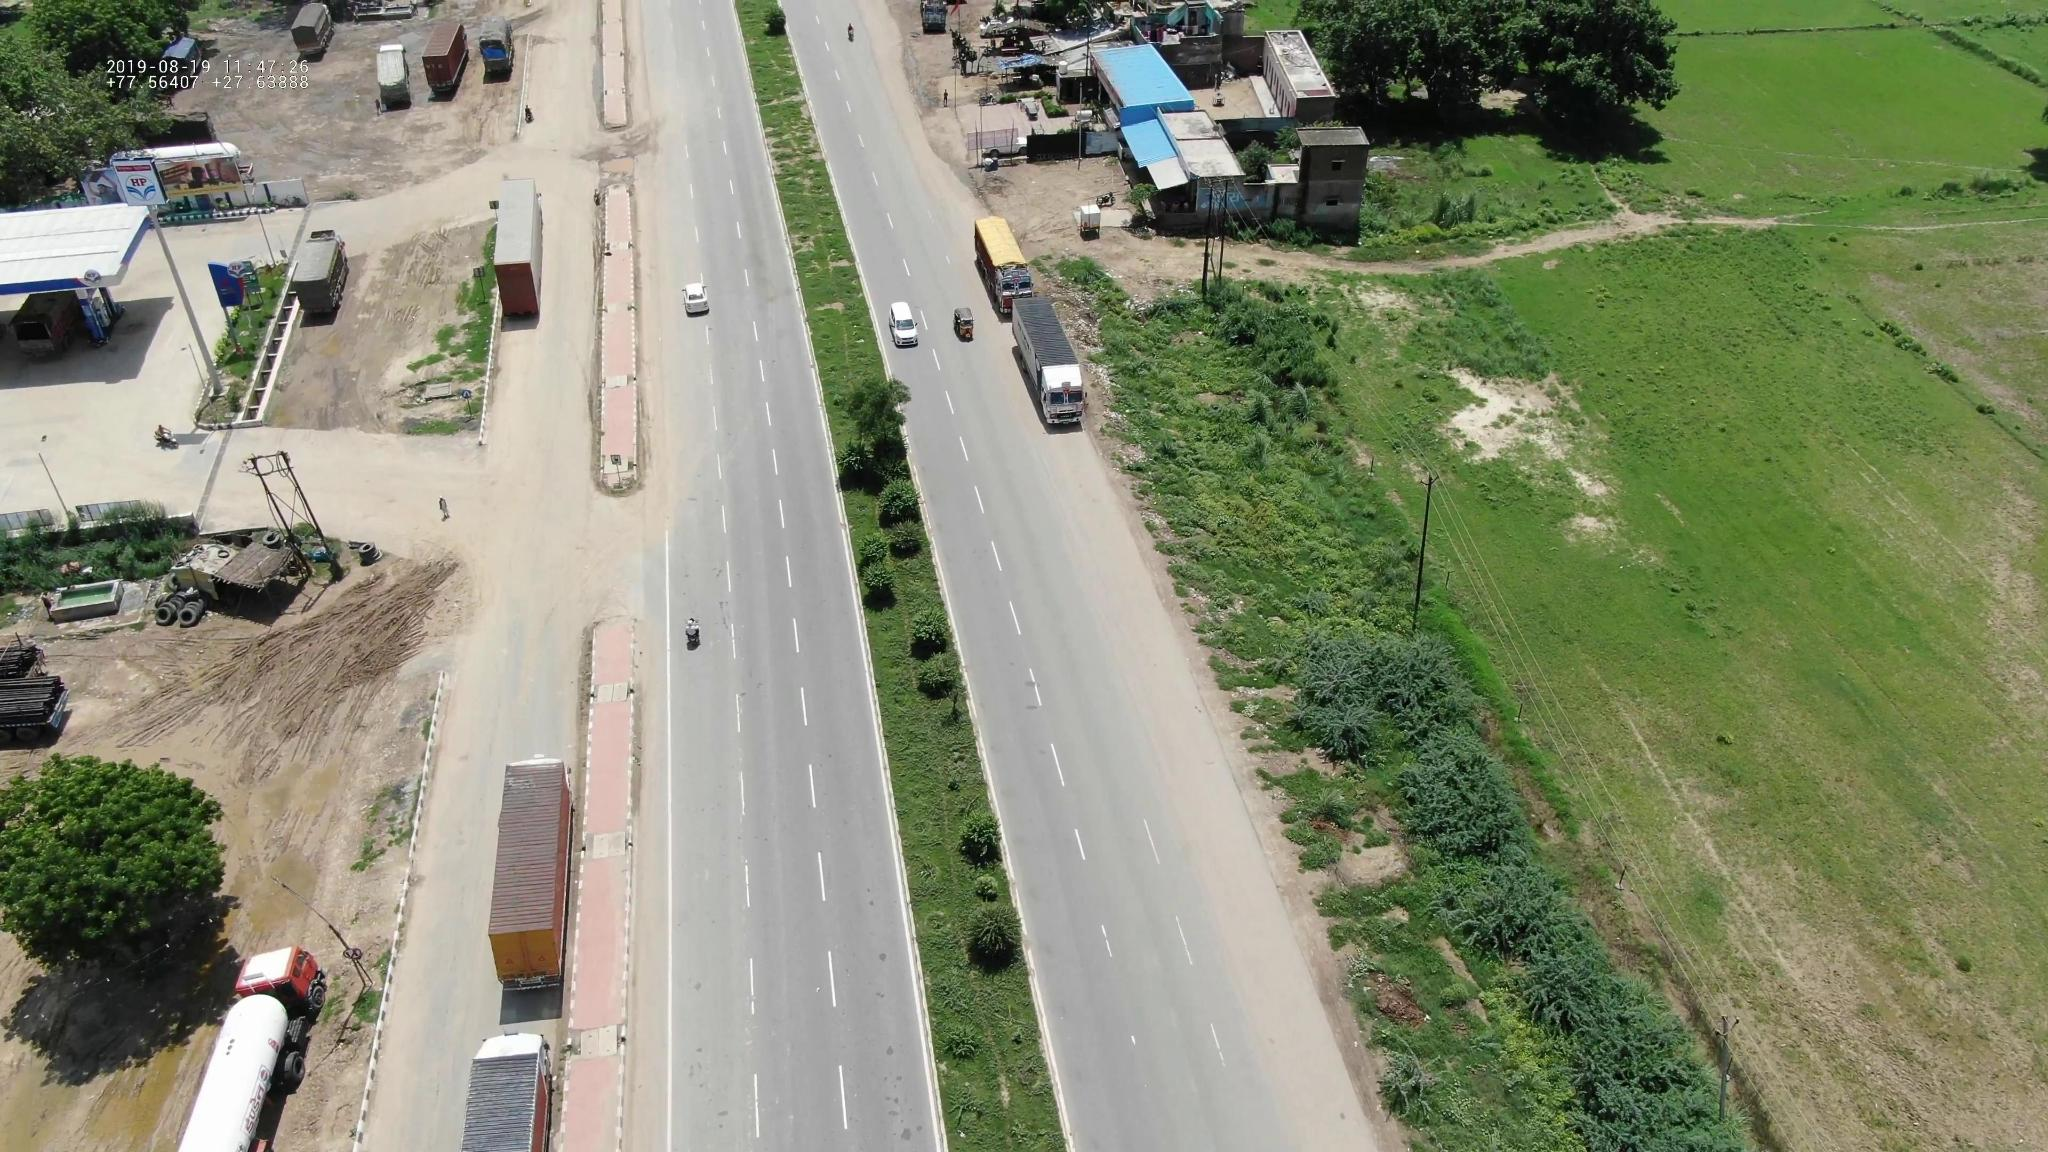Muddy_road: (501, 369, 587, 532), (632, 167, 700, 300), (651, 324, 706, 480)
